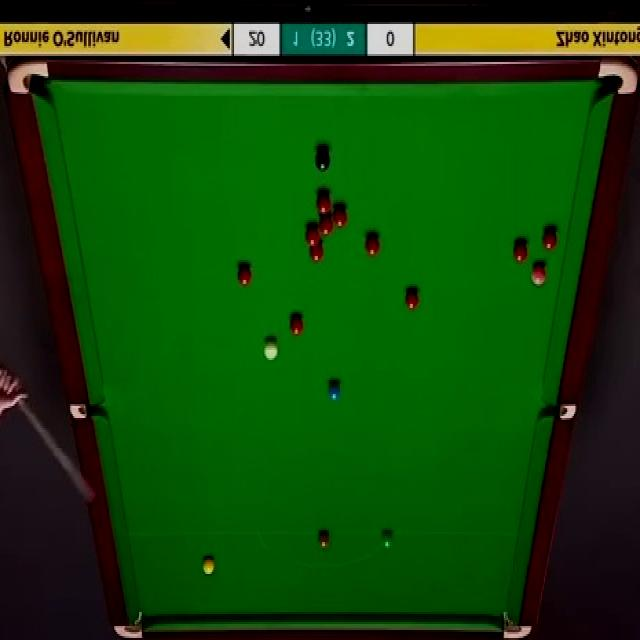black-ball: (314, 147, 331, 172)
blue-ball: (327, 382, 342, 403)
brown-ball: (317, 530, 330, 550)
green-ball: (382, 531, 394, 548)
pink-ball: (531, 262, 547, 288)
red-ball: (236, 261, 253, 288), (365, 235, 382, 259), (514, 240, 530, 264), (333, 203, 348, 228), (289, 314, 304, 336), (543, 228, 558, 250), (317, 191, 330, 214), (318, 216, 334, 234), (405, 288, 418, 310), (308, 246, 324, 263), (306, 232, 320, 248)
white-ball: (262, 337, 278, 362)
yellow-ball: (203, 554, 216, 575)
